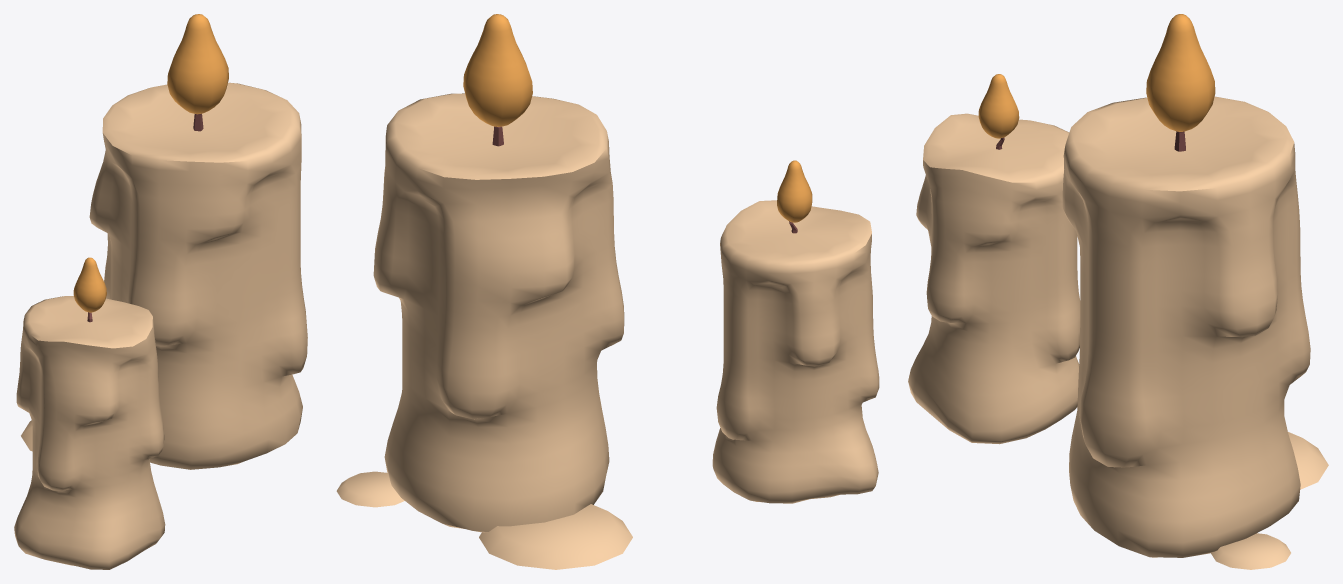
File: velav4.fbx
The picture shows the model from 3 angles, left to right: view 1: azimuth 30°, elevation 25°; view 2: azimuth 150°, elevation 25°; view 3: azimuth 270°, elevation 25°; orthographic projection. The views are drawn at different scales.
Parts seen in each view (by area): view 1: Cylinder.009; view 2: Cylinder.009; view 3: Cylinder.009.
Part boxes in pixels (x1,y1,x2,y2): Cylinder.009: (14, 14, 307, 569); Cylinder.009: (336, 14, 879, 569); Cylinder.009: (908, 14, 1328, 569).
Size of the model in its own units: 0.3827 by 0.4283 by 0.3241.
